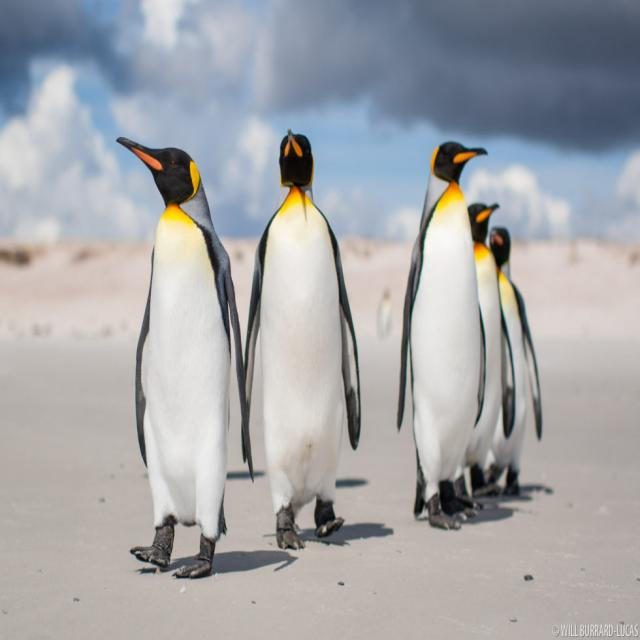Penguins: (242, 125, 376, 562), (109, 128, 239, 576), (394, 125, 481, 538), (457, 198, 509, 510), (487, 227, 520, 492)
